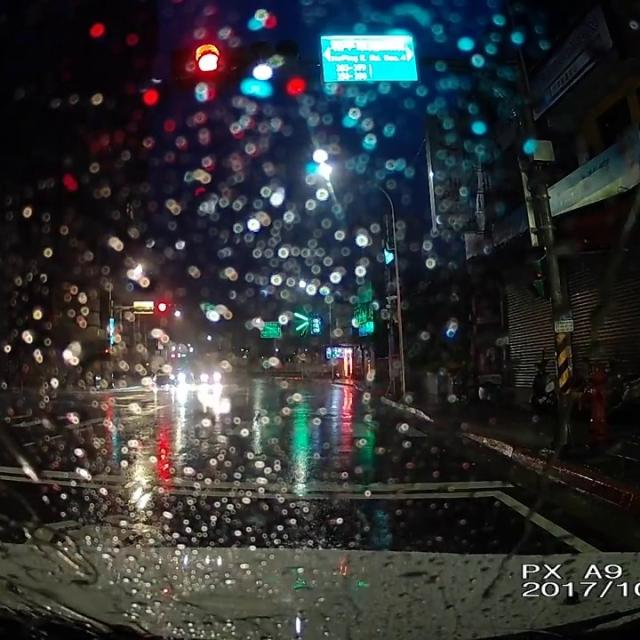Car: (151, 362, 178, 387), (193, 365, 223, 385)
